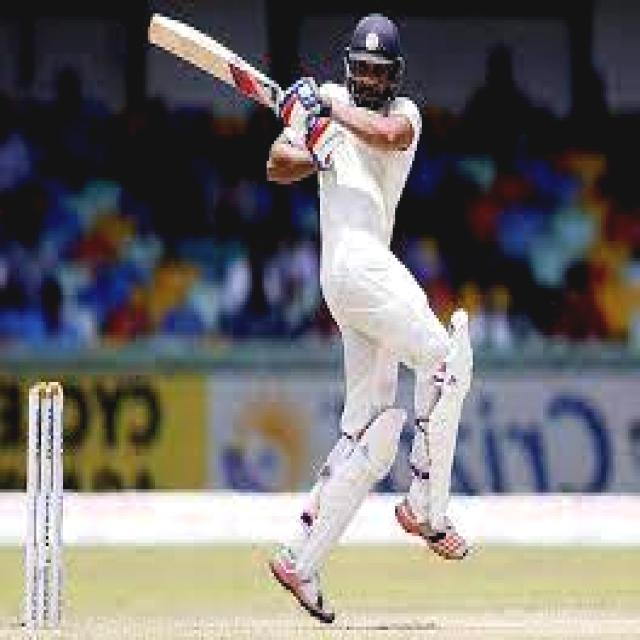toe: (143, 8, 165, 51)
